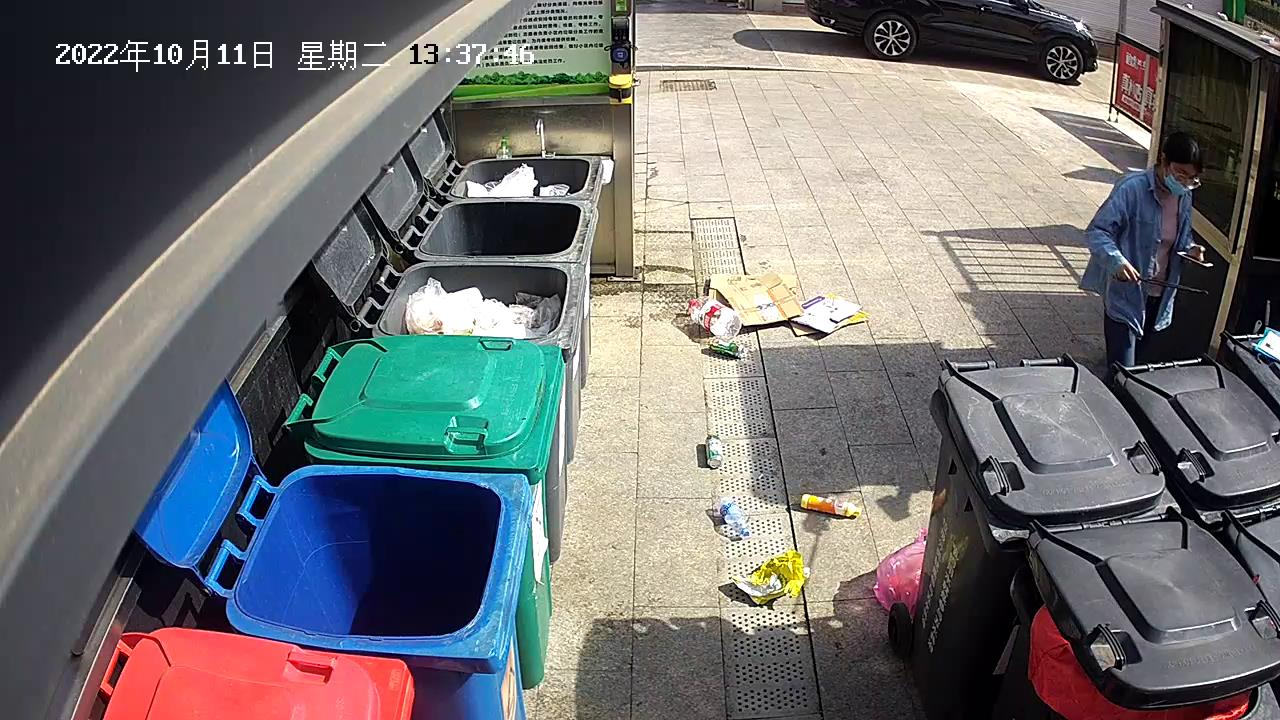garbage: (728, 547, 817, 611)
garbage-bag: (865, 524, 933, 617)
lvzhipin: (703, 333, 749, 360), (701, 429, 727, 473)
suliaozhipin: (684, 291, 747, 341), (798, 487, 870, 523), (714, 494, 757, 541)
worker: (1072, 128, 1225, 378)
zhizhipin: (702, 265, 808, 330), (786, 290, 875, 340)
